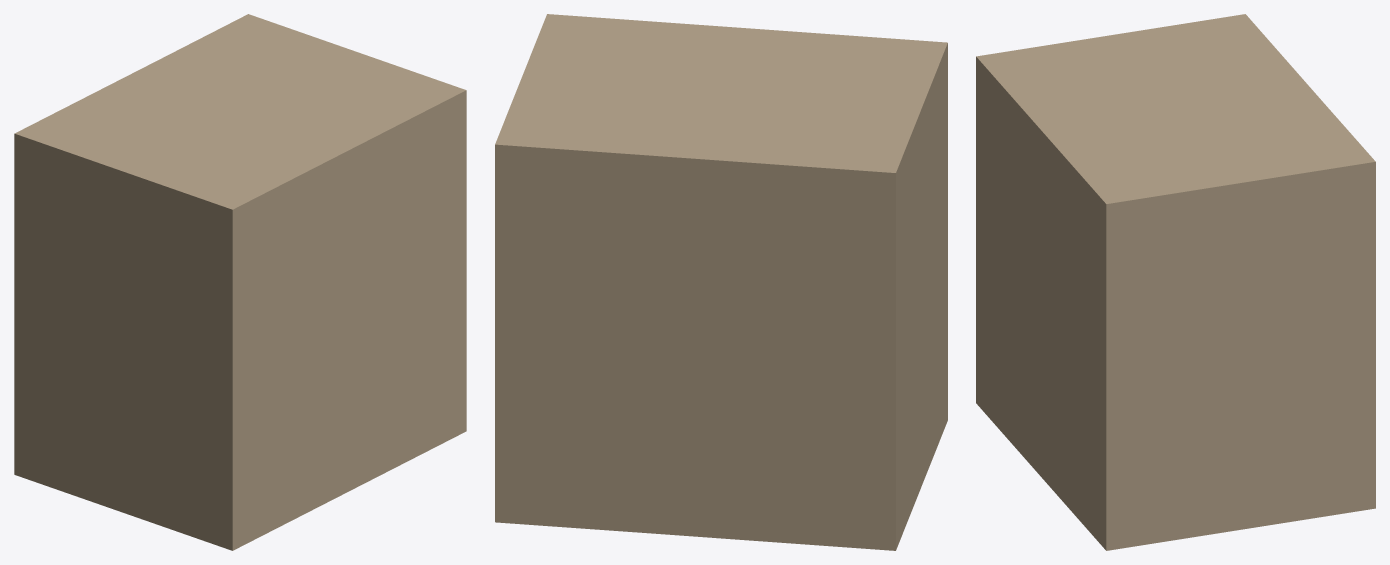
The model's file is bld_107610486.dae.
3 views of the same model, side by side, from view 1: azimuth 30°, elevation 25°; view 2: azimuth 150°, elevation 25°; view 3: azimuth 270°, elevation 25° (orthographic). The views are drawn at different scales.
Visible parts, largest first — view 1: bld_107610486; view 2: bld_107610486; view 3: bld_107610486.
Boxes of the visible parts, left/top/right/bottom form: bld_107610486: left=14, top=14, right=466, bottom=550; bld_107610486: left=495, top=14, right=947, bottom=550; bld_107610486: left=976, top=14, right=1375, bottom=550.
Bounding box in the file's own units: 9.41 × 8.36 × 8.
